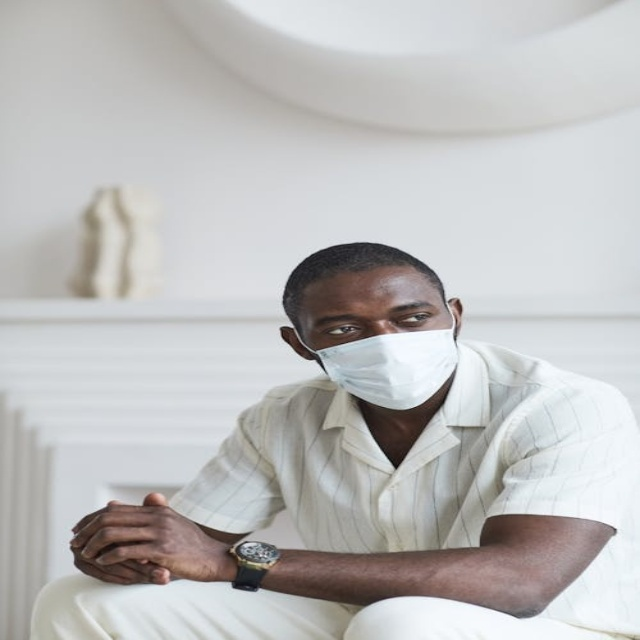Mascara: (306, 305, 462, 410)
Sin_gafas: (305, 297, 443, 341)
Sin_guantes: (73, 492, 224, 587)
